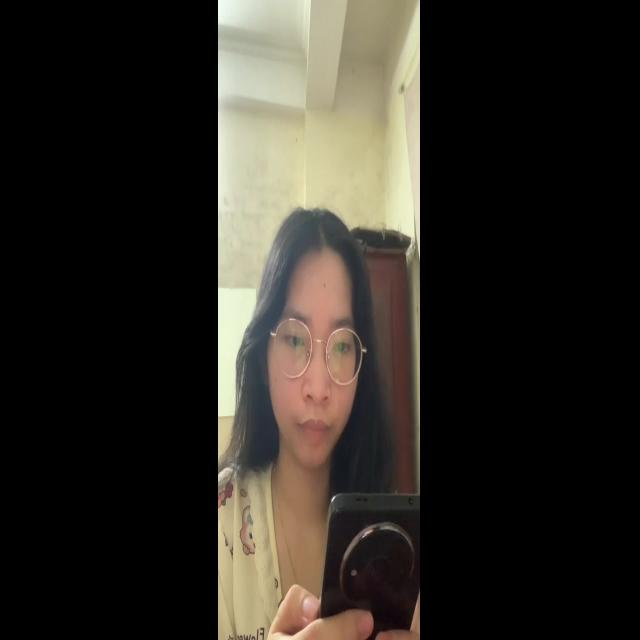phone: (316, 477, 426, 640)
student: (253, 205, 365, 478)
